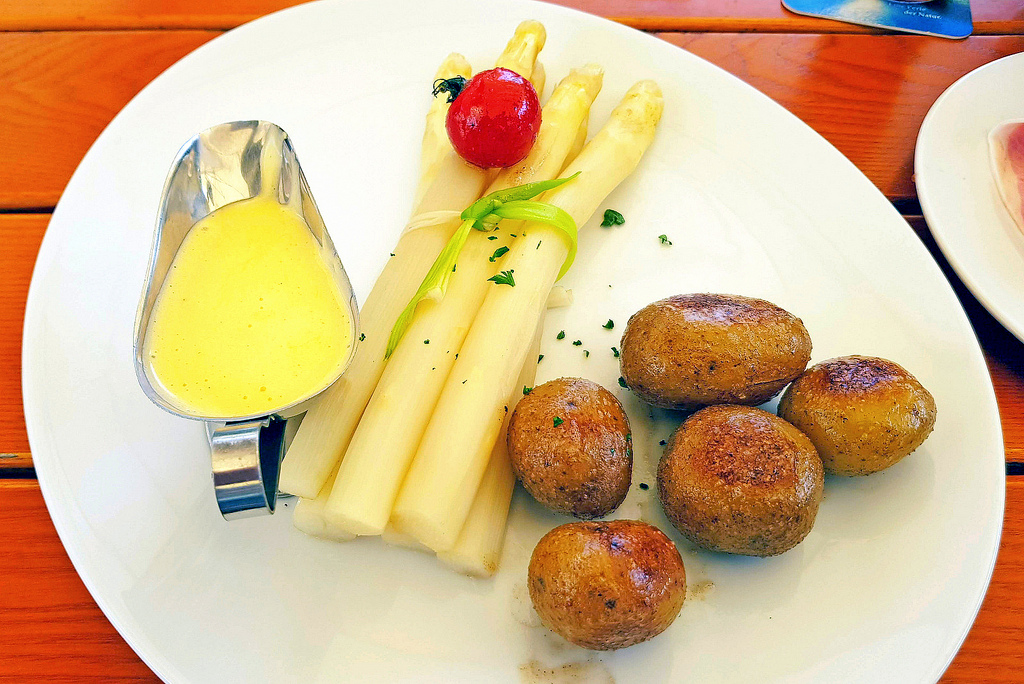boiled potatoes: (660, 392, 822, 556), (620, 292, 819, 404), (528, 520, 690, 647), (780, 346, 943, 469), (520, 380, 639, 500)
